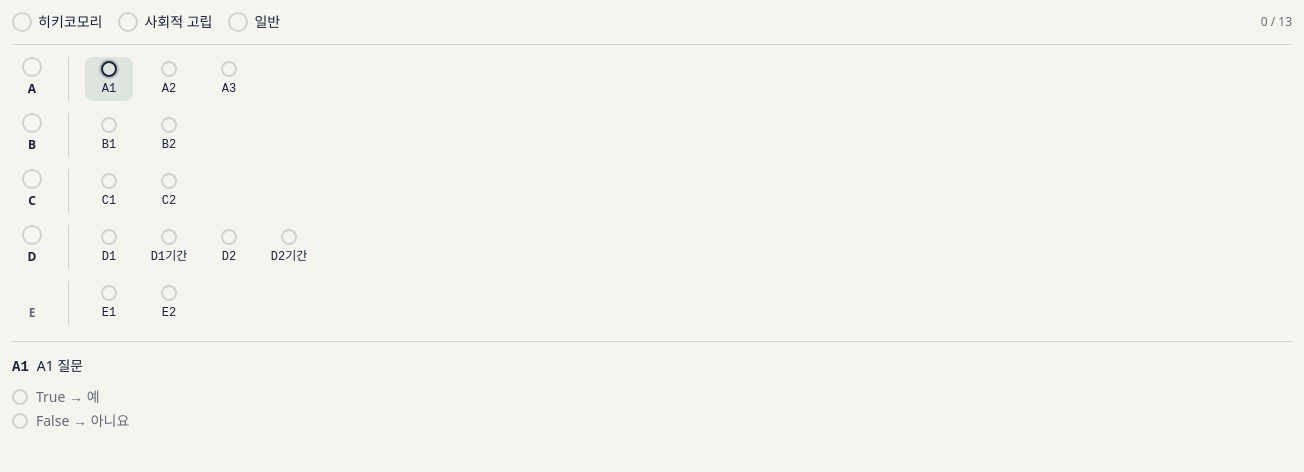
JudgmentFlow detail › notes when a question is only asked after another one was True
Step 1. Click the button with aria-label "D1기간 아직" → [169, 247], box [145,225,193,269]
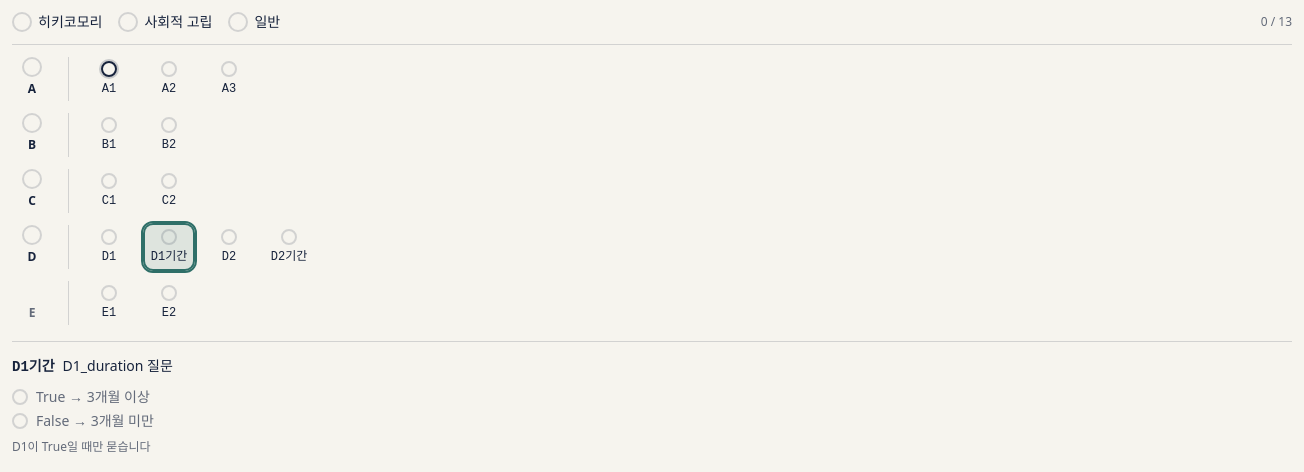
Expected: the element with test id "when-true" reads "True → 3개월 이상", [12,387,150,406]
Expected: the element with test id "lamp-detail" shows "D1이 True일 때만 묻습니다", [12,438,150,455]
